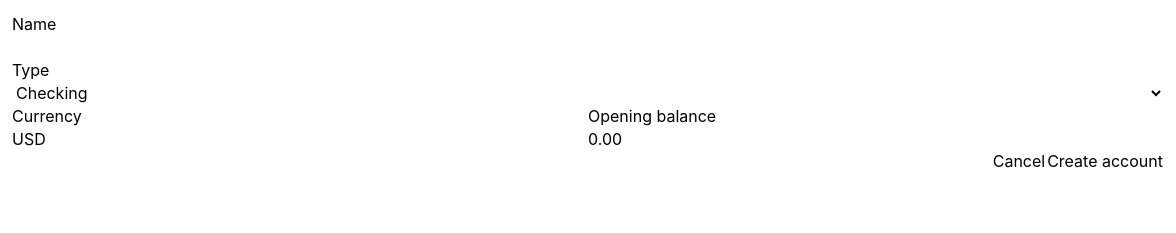
Test: AccountForm › blocks submit and shows field errors for empty input
Click the button "Create account". click: (1105, 161)
box: [1046, 151, 1164, 172]
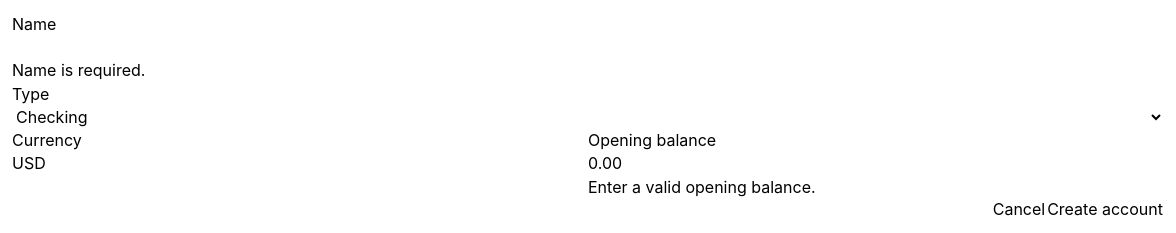
Result: the text "Name is required." is shown at [12, 60, 145, 80]
Result: the text "Enter a valid opening balance." is shown at [588, 177, 816, 197]
